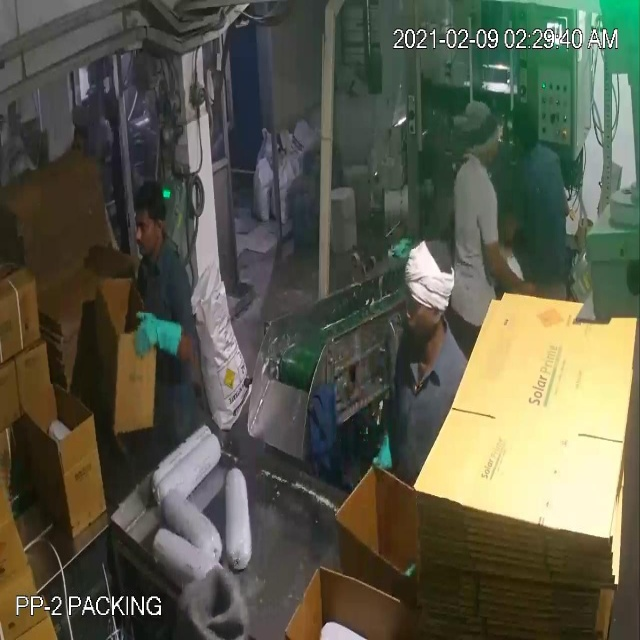Guantes: (132, 307, 189, 362)
Sin_guantes: (474, 228, 550, 307)
